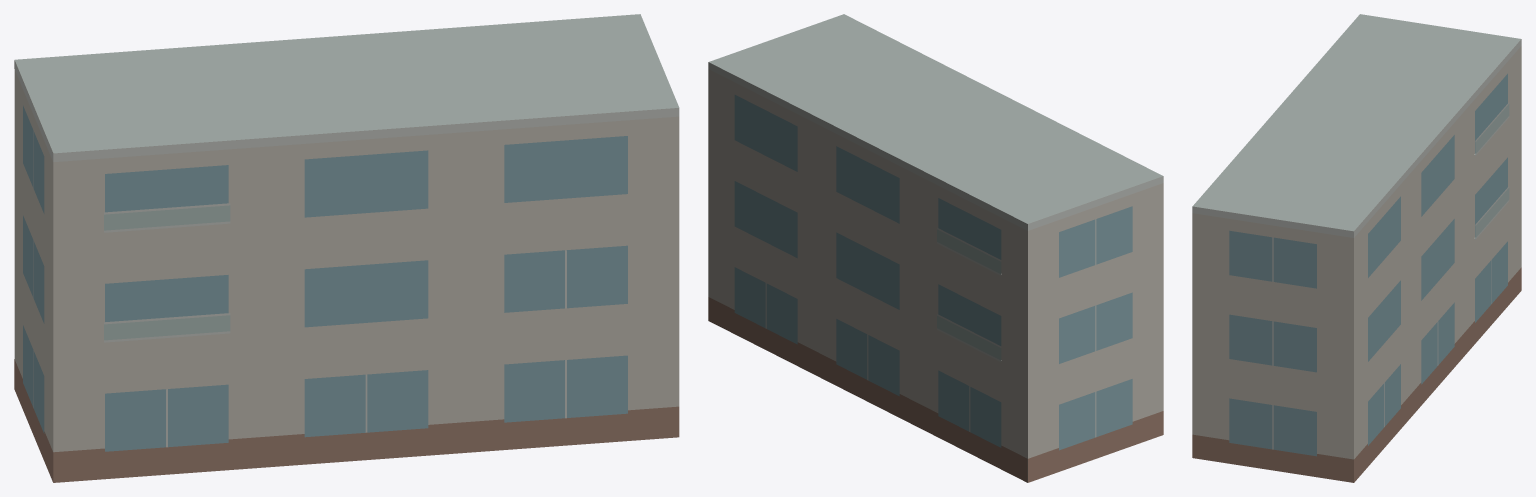
The model's file is survey-upis-32718740.glb.
3 views of the same model, side by side, from view 1: azimuth 30°, elevation 25°; view 2: azimuth 150°, elevation 25°; view 3: azimuth 270°, elevation 25° (orthographic). The views are drawn at different scales.
Parts seen in each view (by area): view 1: survey-upis-32718740.tmp; view 2: survey-upis-32718740.tmp; view 3: survey-upis-32718740.tmp.
Boxes of the visible parts, x1=… form: survey-upis-32718740.tmp: x1=14, y1=14, x2=679, y2=482; survey-upis-32718740.tmp: x1=708, y1=14, x2=1163, y2=482; survey-upis-32718740.tmp: x1=1192, y1=14, x2=1521, y2=482.
Bounding box in the file's own units: 16.96 × 9.15 × 10.86.
